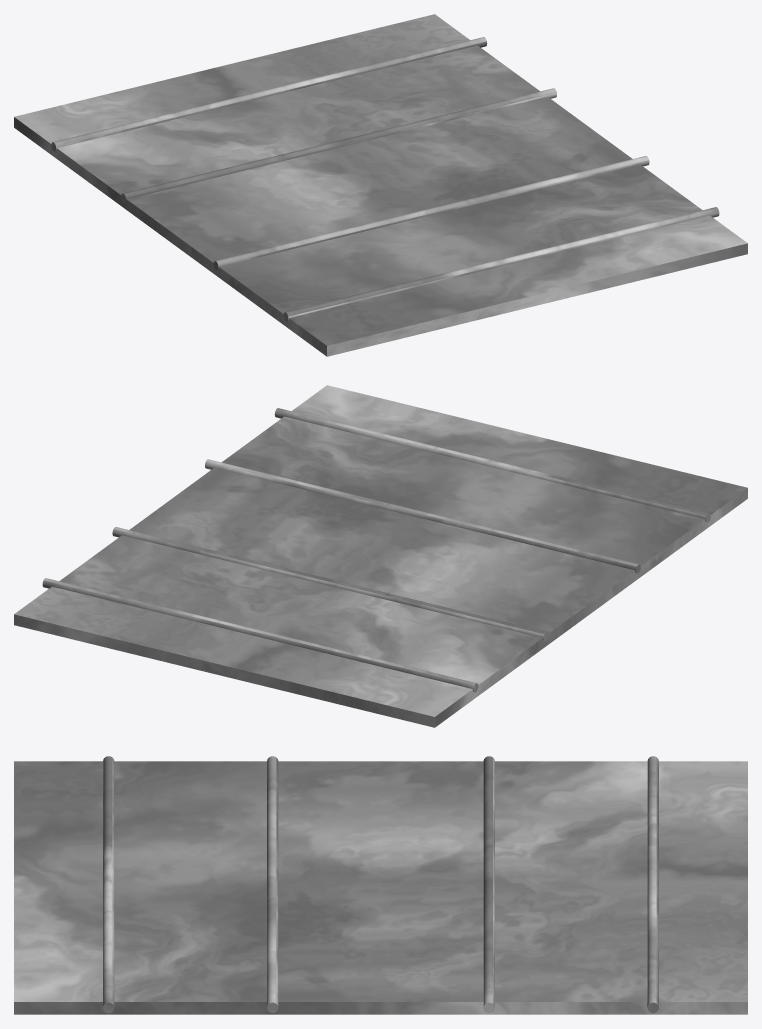
File: SM_underplate.fbx
3 renders of one model, top to bottom at view 1: azimuth 30°, elevation 25°; view 2: azimuth 150°, elevation 25°; view 3: azimuth 270°, elevation 25°, orthographic. The views are drawn at different scales.
Parts seen in each view (by area): view 1: SM_underplate; view 2: SM_underplate; view 3: SM_underplate.
Boxes of the visible parts, x1,y1,x2,y2 form: SM_underplate: (14,14,747,356); SM_underplate: (14,385,747,727); SM_underplate: (14,756,747,1014).
Bounding box in the file's own units: 20.17 × 25.38 × 0.6633.
Materials: 1 (1 with a texture image).
